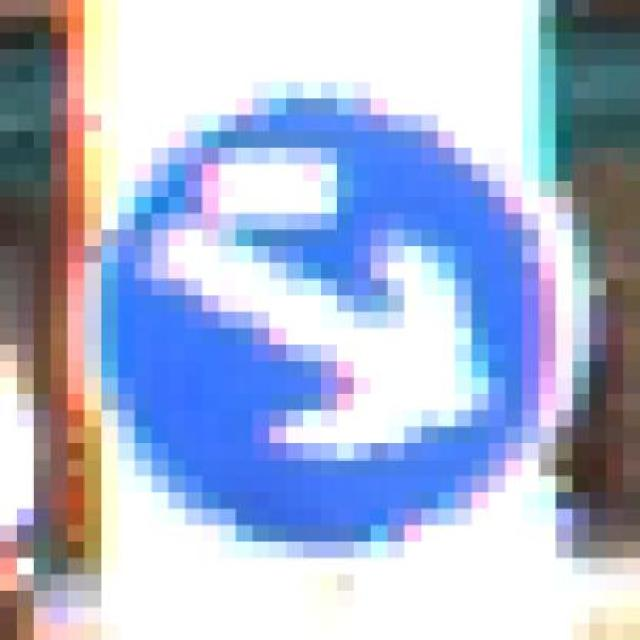Keep-Right: (67, 82, 573, 575)
